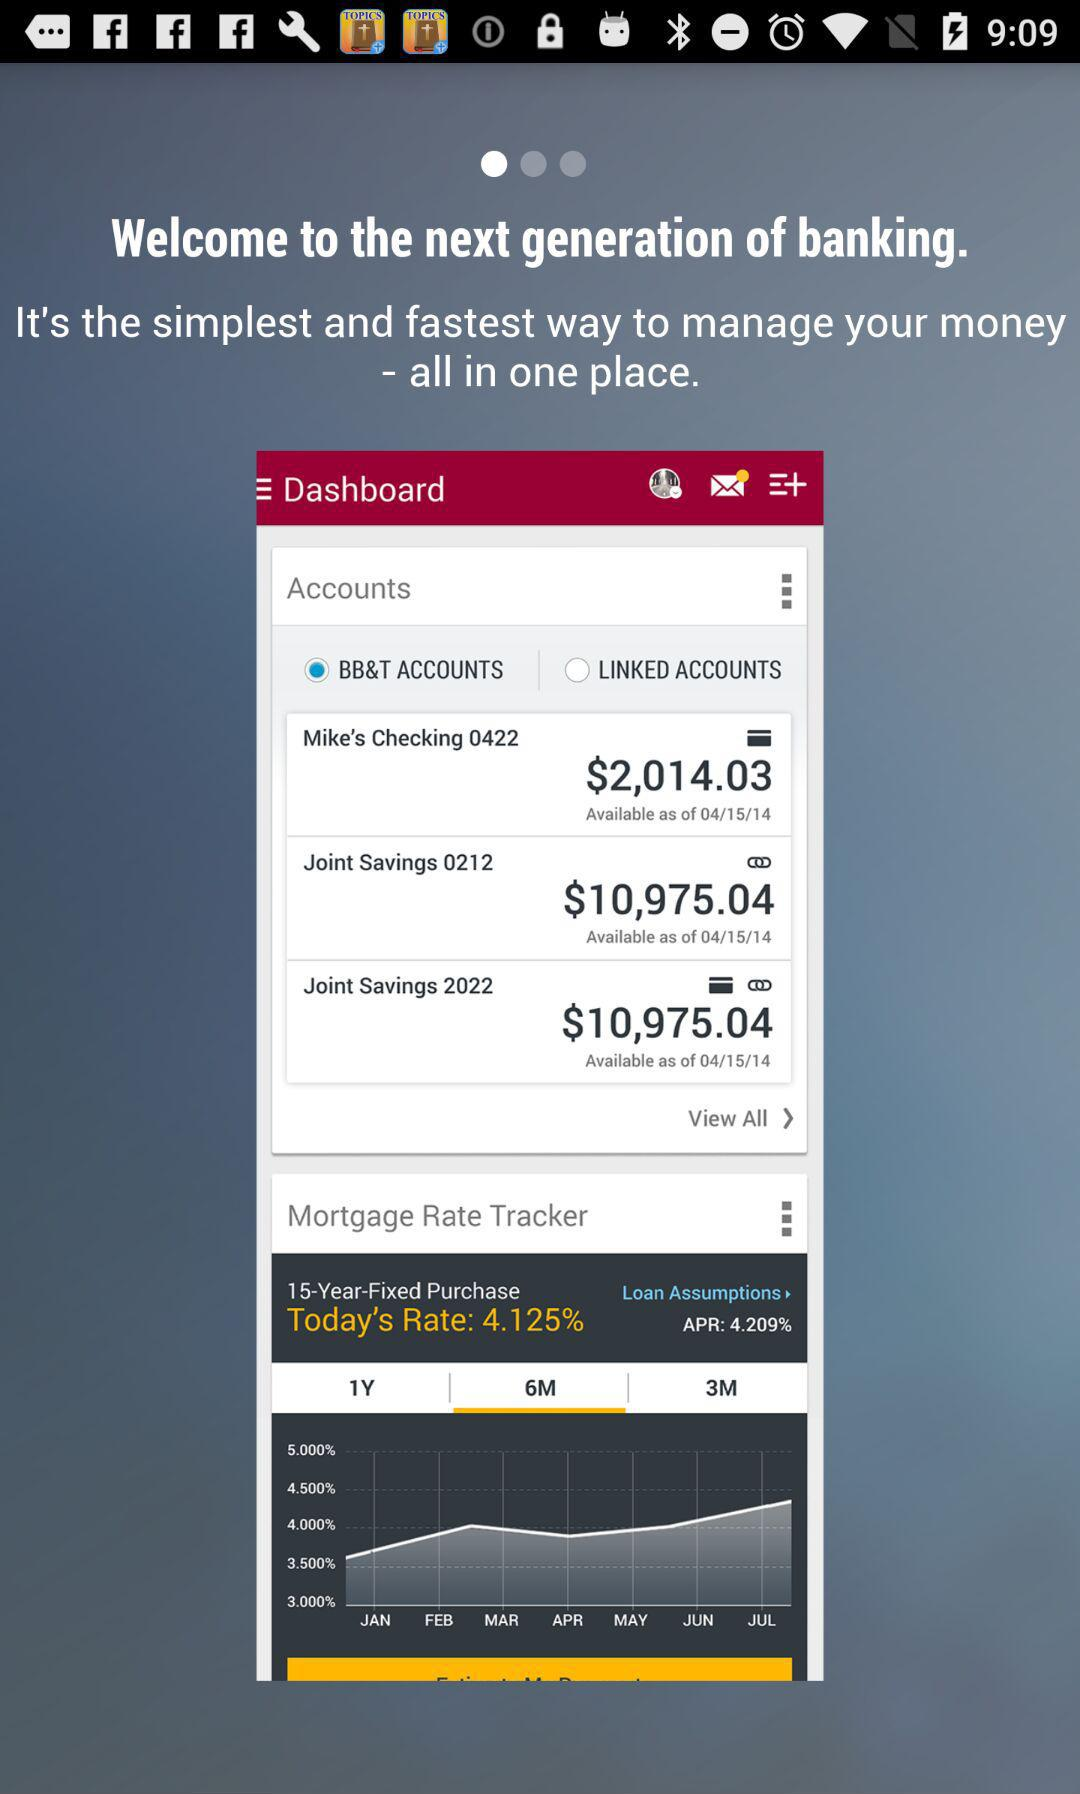Image: (256, 450, 825, 1683)
PageIndicator: (480, 150, 588, 179)
Text: (17, 304, 1067, 395), (111, 217, 969, 270)
UpperTaskBar: (1, 1, 1080, 64)
